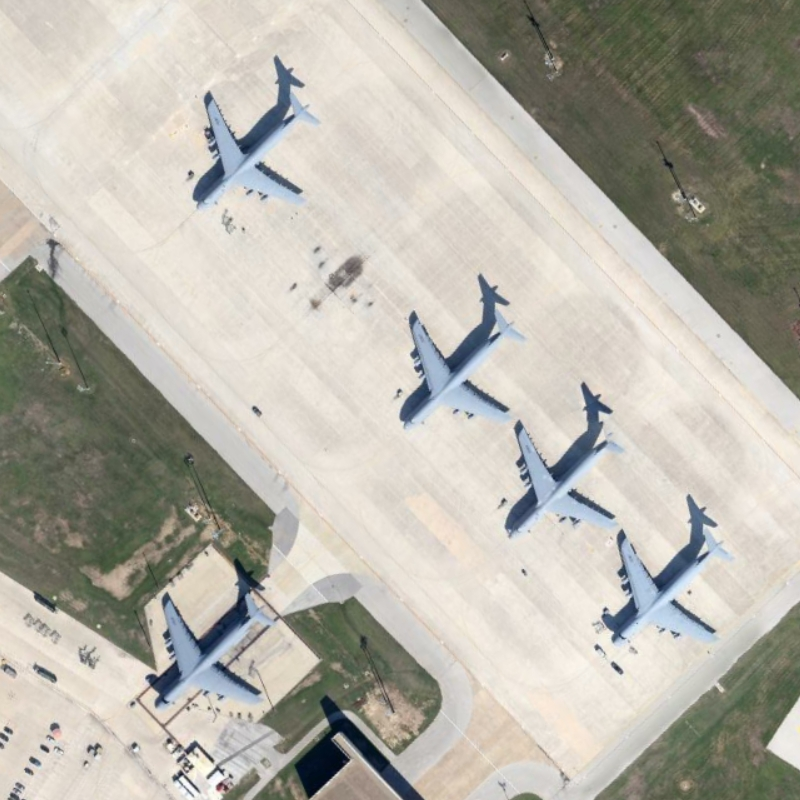A4: (185, 72, 324, 218), (394, 294, 531, 438), (149, 579, 286, 722), (598, 519, 736, 650), (494, 411, 624, 539)
